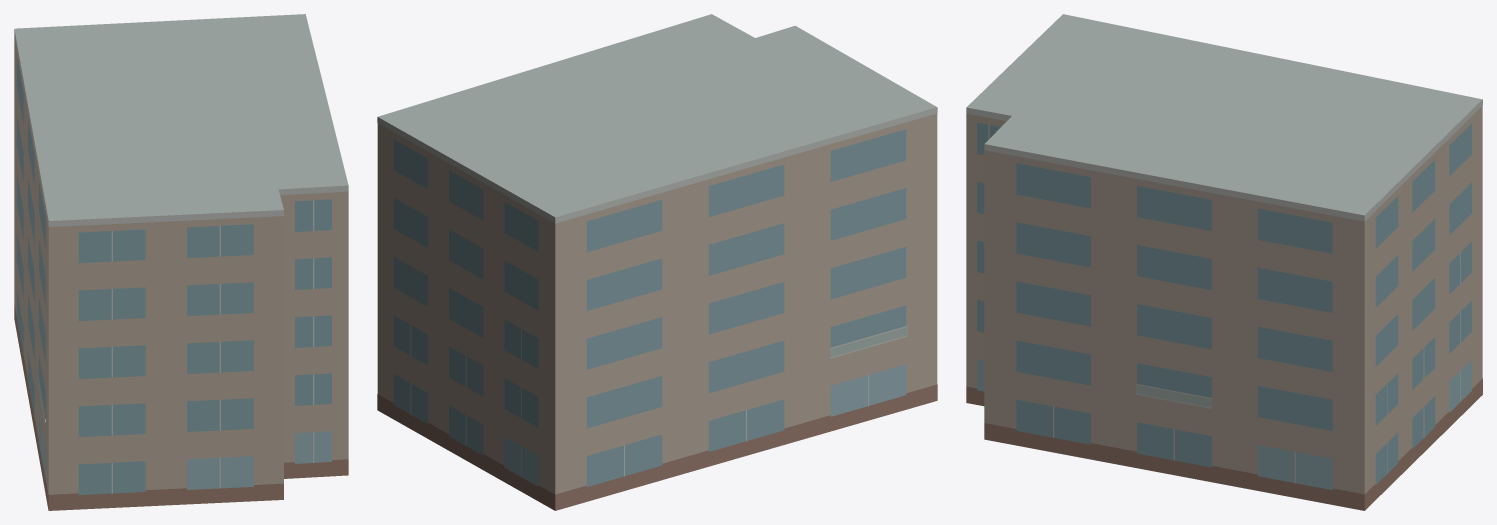
File: survey-upis-32975850.glb
3 renders of one model, left to right at view 1: azimuth 30°, elevation 25°; view 2: azimuth 150°, elevation 25°; view 3: azimuth 270°, elevation 25°, orthographic.
Parts seen in each view (by area): view 1: survey-upis-32975850.tmp; view 2: survey-upis-32975850.tmp; view 3: survey-upis-32975850.tmp.
Part boxes in pixels (left/top/right/bottom): survey-upis-32975850.tmp: left=14, top=14, right=348, bottom=510; survey-upis-32975850.tmp: left=377, top=14, right=937, bottom=510; survey-upis-32975850.tmp: left=966, top=14, right=1482, bottom=510.
Size of the model in its own units: 17.12 by 11.7 by 18.55.
